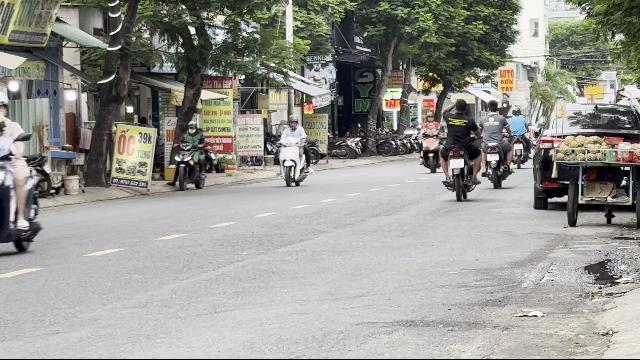motorcyclist: (275, 114, 313, 187)
